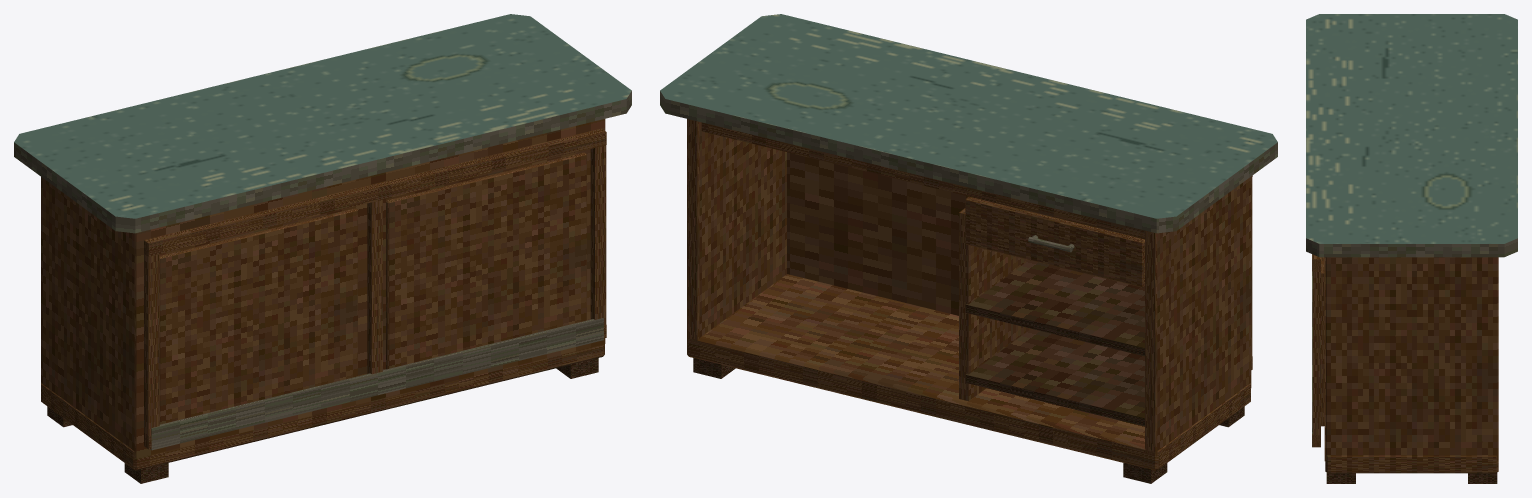
Rendered from CheckoutCounter.fbx.
3 views of the same model, side by side, from view 1: azimuth 30°, elevation 25°; view 2: azimuth 150°, elevation 25°; view 3: azimuth 270°, elevation 25° (orthographic). The views are drawn at different scales.
Visible parts, largest first — view 1: CheckoutCounter; view 2: CheckoutCounter; view 3: CheckoutCounter.
Boxes of the visible parts, x1,y1,x2,y2 form: CheckoutCounter: (14,14,631,483); CheckoutCounter: (660,14,1277,483); CheckoutCounter: (1306,14,1517,483).
Size of the model in its own units: 185 by 95 by 72.
